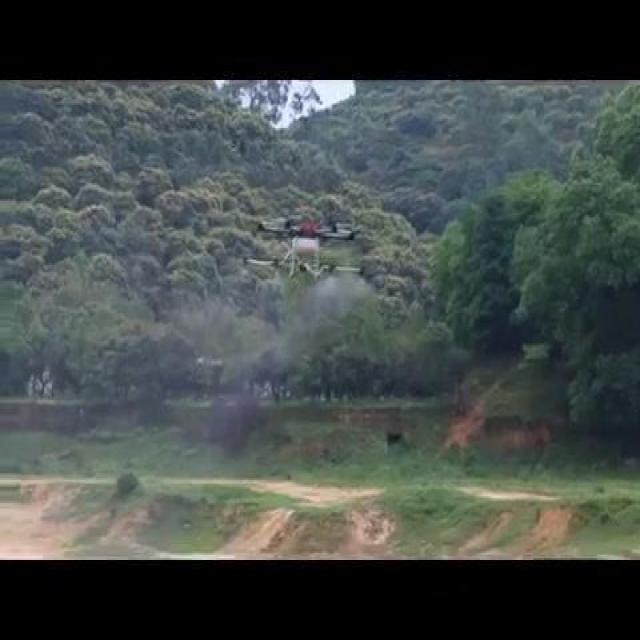drone: (243, 214, 371, 292)
